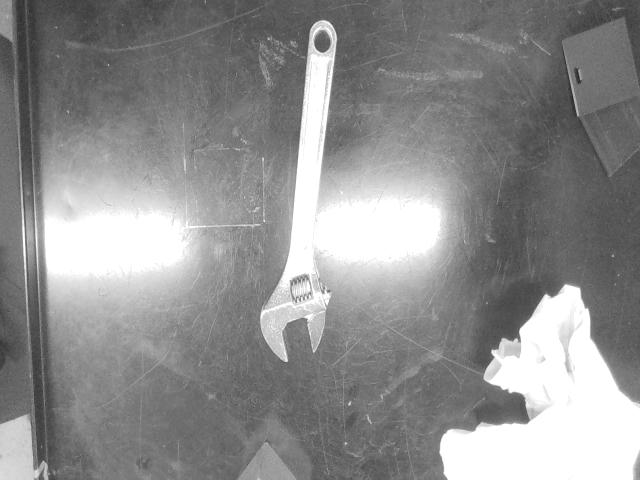Adjustable spanner: (260, 20, 338, 362)
